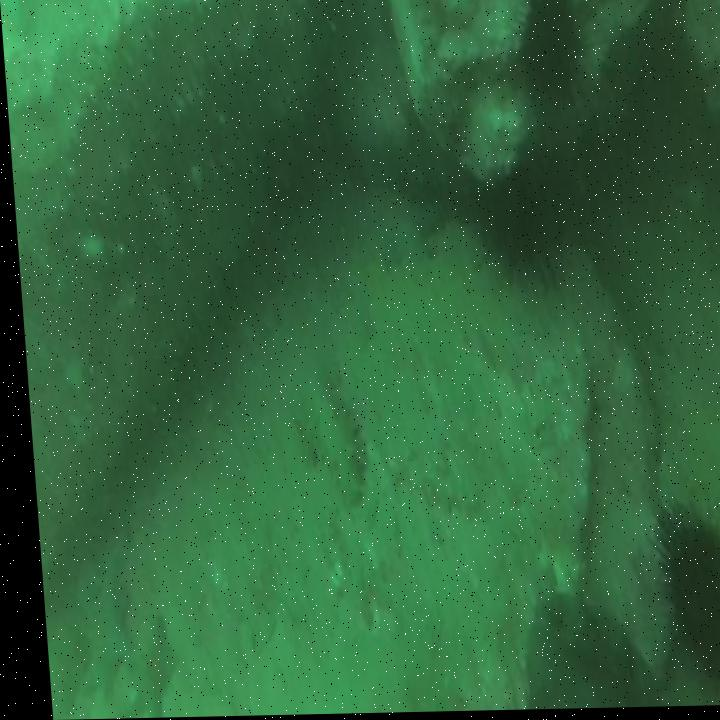echinus: (658, 523, 720, 702), (476, 177, 552, 280), (514, 0, 582, 98)
holothurian: (287, 384, 357, 506), (325, 517, 366, 615)
starfish: (65, 587, 122, 695), (110, 611, 169, 711)
